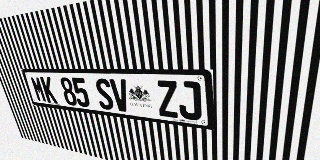5: (71, 77, 91, 108)
8: (59, 77, 78, 106)
J: (177, 81, 202, 121)
K: (40, 76, 58, 104)
M: (30, 76, 47, 102)
S: (94, 78, 115, 110)
V: (109, 79, 131, 112)
Z: (155, 80, 179, 118)
